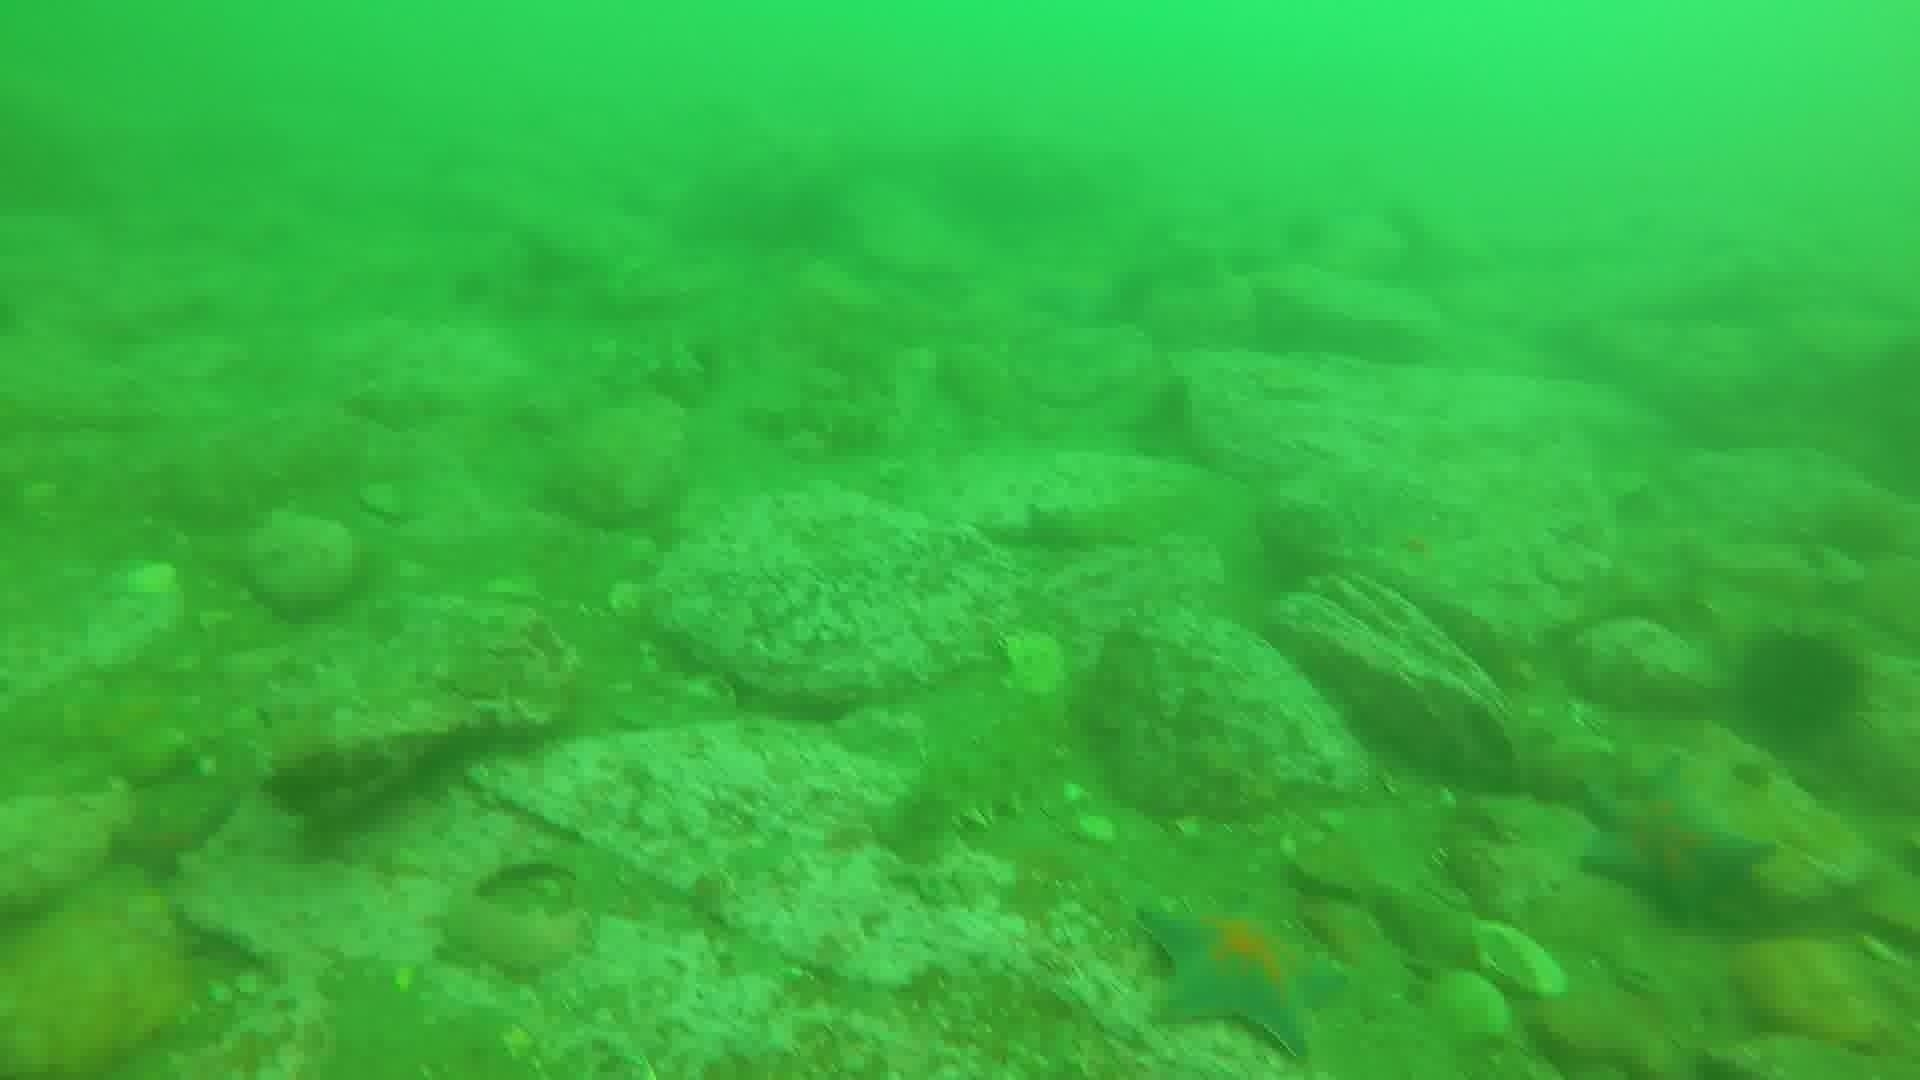echinus: (1730, 626, 1869, 753)
holothurian: (884, 705, 1068, 866)
starfish: (1134, 891, 1349, 1062), (1575, 757, 1774, 930)
